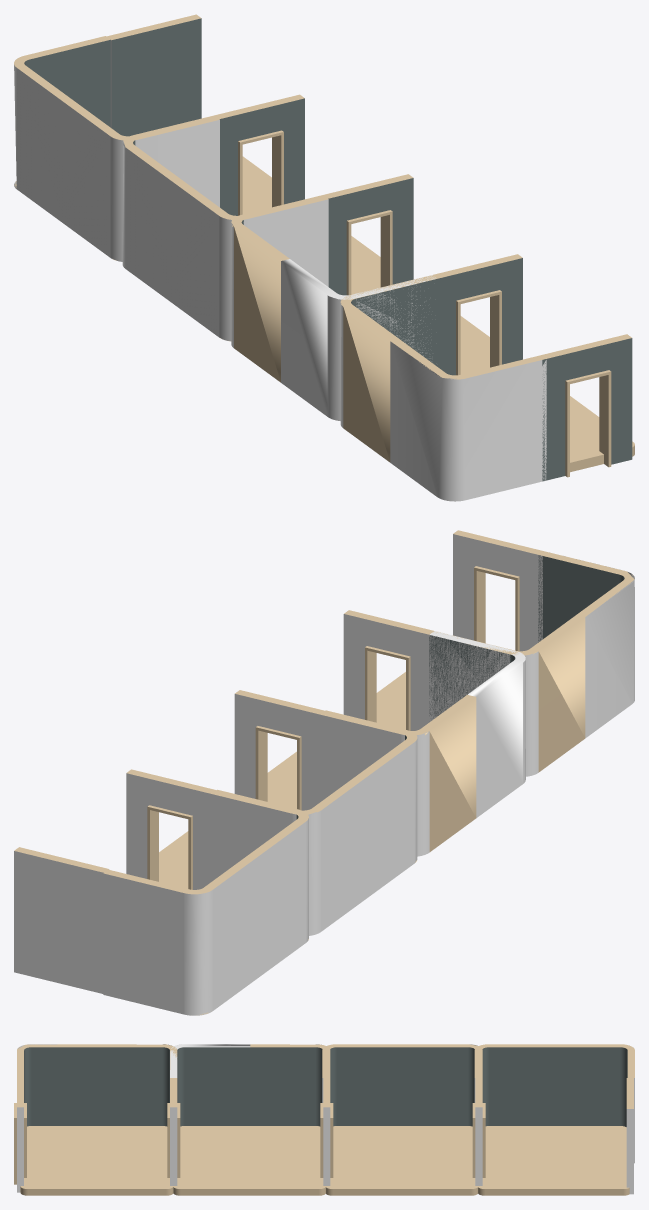
The model's file is Stage.gltf.
3 renders of one model, top to bottom at view 1: azimuth 30°, elevation 25°; view 2: azimuth 150°, elevation 25°; view 3: azimuth 270°, elevation 25°, orthographic. The views are drawn at different scales.
Visible parts, largest first — view 1: Stage; view 2: Stage; view 3: Stage.
Part boxes in pixels (bbox=[...]): Stage: bbox=[14, 14, 634, 501]; Stage: bbox=[14, 530, 634, 1015]; Stage: bbox=[14, 1044, 634, 1195].
Bounding box in the file's own units: 5.38 × 3.22 × 21.28.
